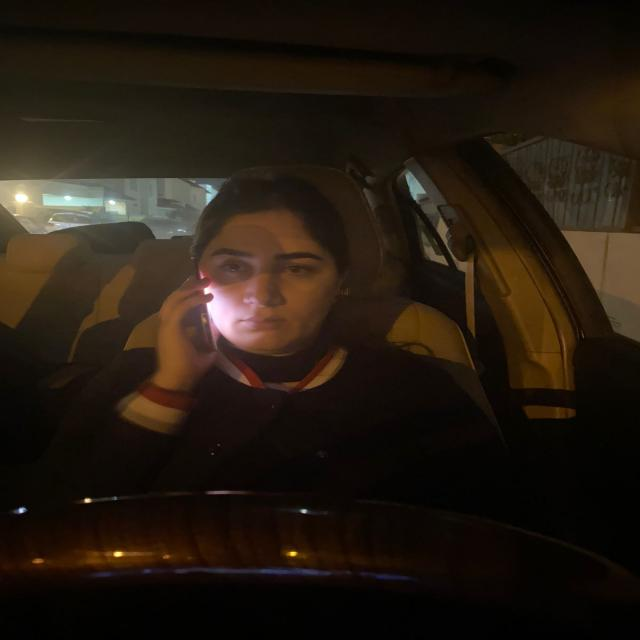mobile: (171, 279, 226, 371)
person: (183, 176, 355, 361)
